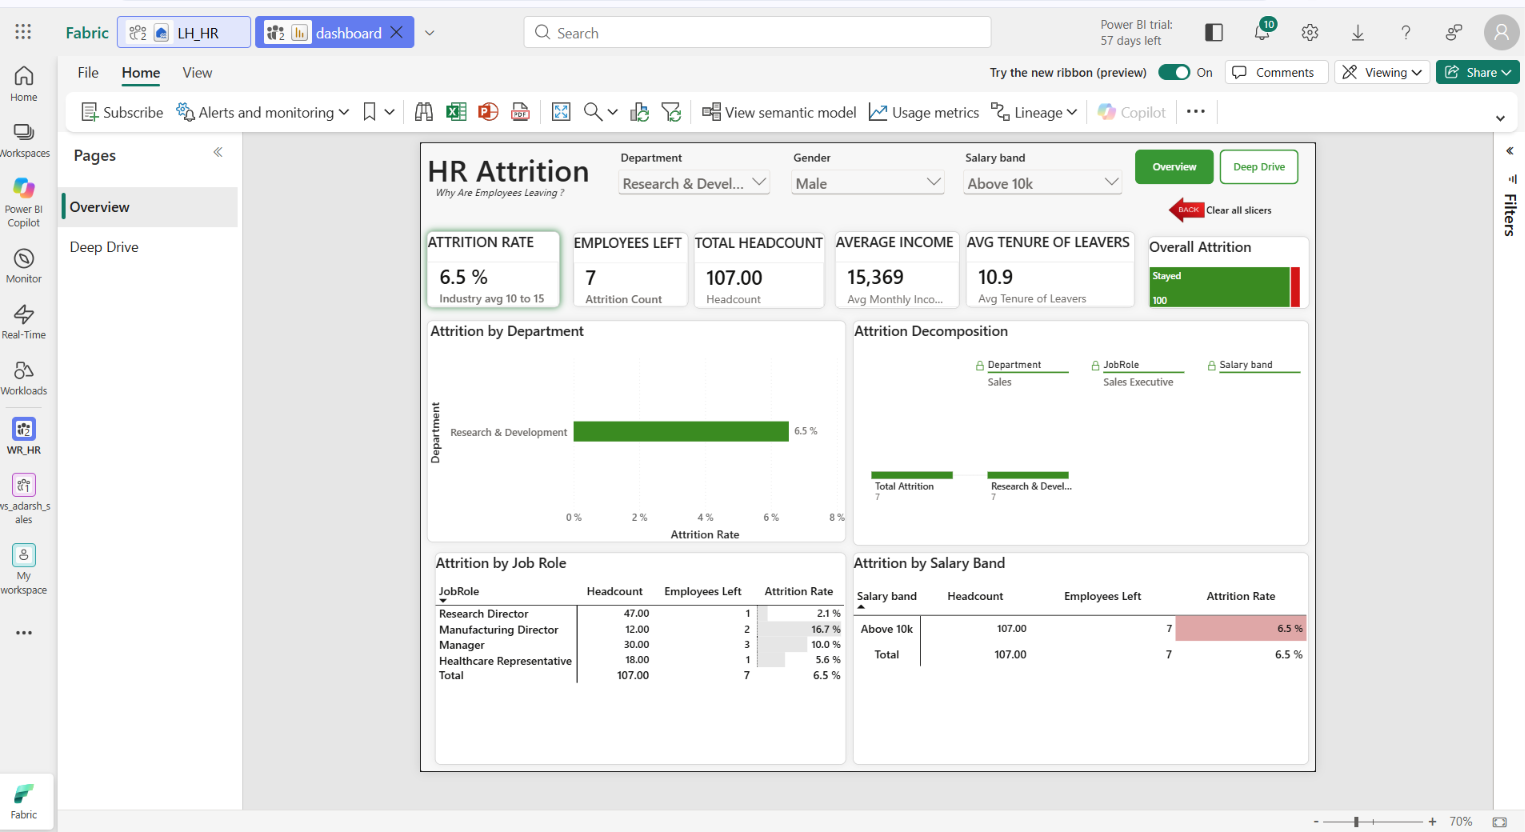

The page's visual inventory and layout, read from the dashboard file:
{"tool":"powerbi","page":{"name":"Overview","canvas":[1280,900],"ordinal":0},"visuals":[{"type":"textbox","box":[10,10,280,67.1],"z":0},{"type":"textbox","box":[21.4,60,280,35.7],"z":1000},{"type":"slicer","fields":{"Values":["HR-Employees.Department"]},"box":[278.6,10,226.4,74.1],"z":2000},{"type":"slicer","fields":{"Values":["HR-Employees.Gender"]},"box":[525.7,10,229.2,74.1],"z":3000},{"type":"slicer","fields":{"Values":["HR-Employees.Salary band"]},"box":[771.4,10,237.4,72.7],"z":4000},{"type":"actionButton","box":[1070,71.4,200,50],"z":5000},{"type":"pageNavigator","box":[1021.4,10,235.7,50],"z":6000},{"type":"cardVisual","title":"ATTRITION RATE","fields":{"Data":["HR-Employees.Attrition Rate"]},"box":[10,127.1,189.7,109.1],"z":7000},{"type":"cardVisual","title":"EMPLOYEES LEFT","fields":{"Data":["HR-Employees.Employees Left"]},"box":[218.6,128.6,165,106.5],"z":8000},{"type":"cardVisual","title":"TOTAL HEADCOUNT","fields":{"Data":["HR-Employees.Headcount"]},"box":[391.4,128.6,187.1,109.1],"z":9000},{"type":"cardVisual","title":"AVERAGE INCOME","fields":{"Data":["HR-Employees.Avg Monthly Income"]},"box":[592.9,127.1,178.6,110],"z":10000},{"type":"cardVisual","title":"AVG TENURE OF LEAVERS","fields":{"Data":["HR-Employees.Avg Tenure of Leavers"]},"box":[780,127.1,241.4,108.6],"z":11000},{"type":"treemap","title":"Overall Attrition","fields":{"Values":["HR-Employees.Employees Left","HR-Employees.Employees Stayed"]},"box":[1040,134.3,230,102.9],"z":12000},{"type":"barChart","title":"Attrition by Department","fields":{"Category":["HR-Employees.Department"],"Y":["HR-Employees.Attrition Rate"]},"box":[10,254.3,598.6,317.1],"z":13000},{"type":"decompositionTreeVisual","title":"Attrition Decomposition","fields":{"Analyze":["HR-Employees.Employees Left"],"ExplainBy":["HR-Employees.Department","HR-Employees.JobRole","HR-Employees.Salary band"]},"box":[618.6,254.3,651.4,321.4],"z":14000},{"type":"pivotTable","title":"Attrition by Job Role","fields":{"Rows":["HR-Employees.JobRole"],"Values":["HR-Employees.Headcount","HR-Employees.Employees Left","HR-Employees.Attrition Rate"]},"box":[21.4,585.7,587.1,302.9],"z":15000},{"type":"pivotTable","title":"Attrition by Salary Band","fields":{"Rows":["HR-Employees.Salary band"],"Values":["HR-Employees.Headcount","HR-Employees.Employees Left","HR-Employees.Attrition Rate"]},"box":[618.6,585.7,651.4,302.9],"z":16000},{"type":"image","box":[1020,78.6,150,35.7],"z":16001}]}

Visuals, with their boxes on the page's 1280x900 design canvas (x1, y1, x2, y2). These are canvas units, not pixel positions in the 1525x832 screenshot, which may show the page scaled, cropped or inside an application window:
textbox: select_region(10, 10, 290, 77)
textbox: select_region(21, 60, 301, 96)
slicer - HR-Employees.Department: select_region(279, 10, 505, 84)
slicer - HR-Employees.Gender: select_region(526, 10, 755, 84)
slicer - HR-Employees.Salary band: select_region(771, 10, 1009, 83)
actionButton: select_region(1070, 71, 1270, 121)
pageNavigator: select_region(1021, 10, 1257, 60)
"ATTRITION RATE" cardVisual: select_region(10, 127, 200, 236)
"EMPLOYEES LEFT" cardVisual: select_region(219, 129, 384, 235)
"TOTAL HEADCOUNT" cardVisual: select_region(391, 129, 578, 238)
"AVERAGE INCOME" cardVisual: select_region(593, 127, 772, 237)
"AVG TENURE OF LEAVERS" cardVisual: select_region(780, 127, 1021, 236)
"Overall Attrition" treemap: select_region(1040, 134, 1270, 237)
"Attrition by Department" barChart: select_region(10, 254, 609, 571)
"Attrition Decomposition" decompositionTreeVisual: select_region(619, 254, 1270, 576)
"Attrition by Job Role" pivotTable: select_region(21, 586, 608, 889)
"Attrition by Salary Band" pivotTable: select_region(619, 586, 1270, 889)
image: select_region(1020, 79, 1170, 114)
